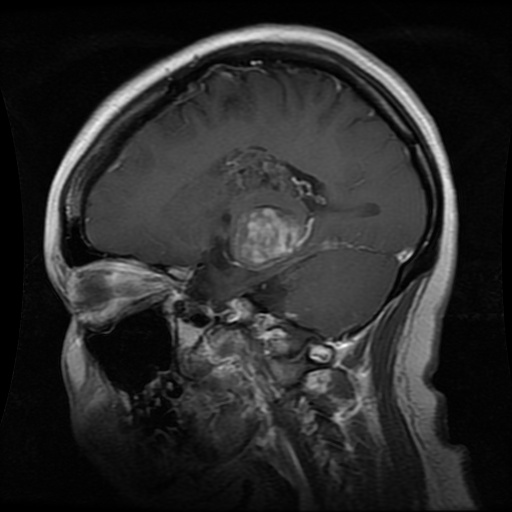glioma: (207, 148, 332, 272)
